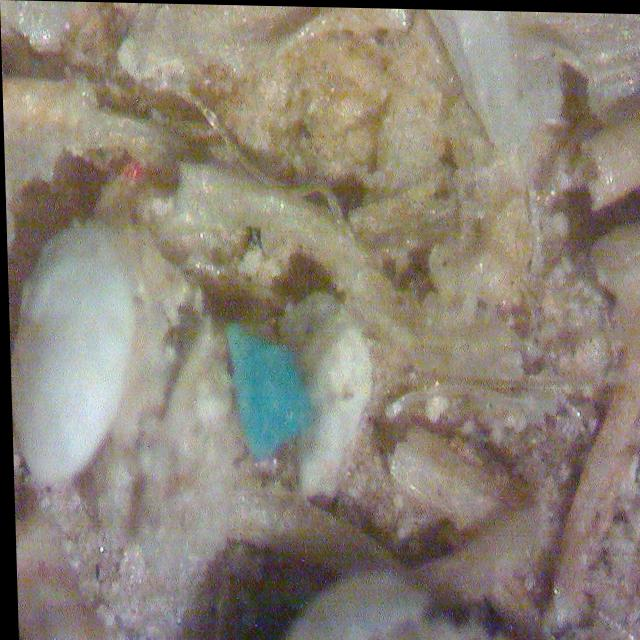microplastic: (221, 323, 306, 460)
